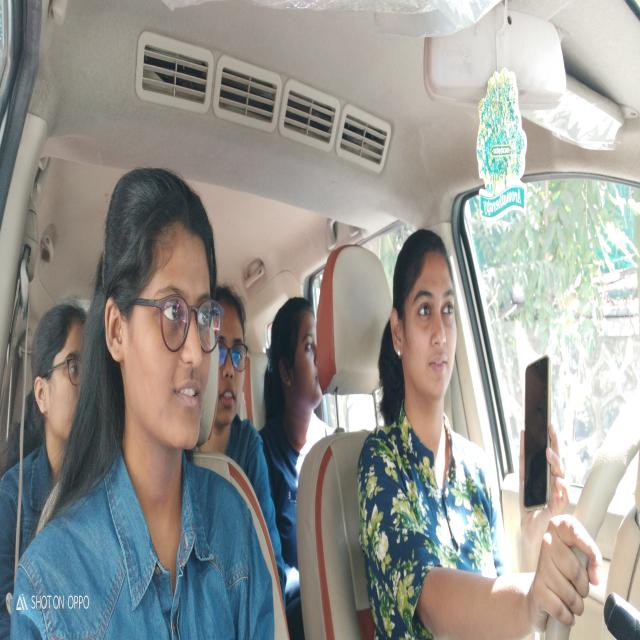mobile: (518, 353, 557, 515)
person: (100, 156, 216, 460), (388, 231, 462, 410), (269, 298, 327, 426), (28, 318, 88, 441), (213, 281, 250, 434)
